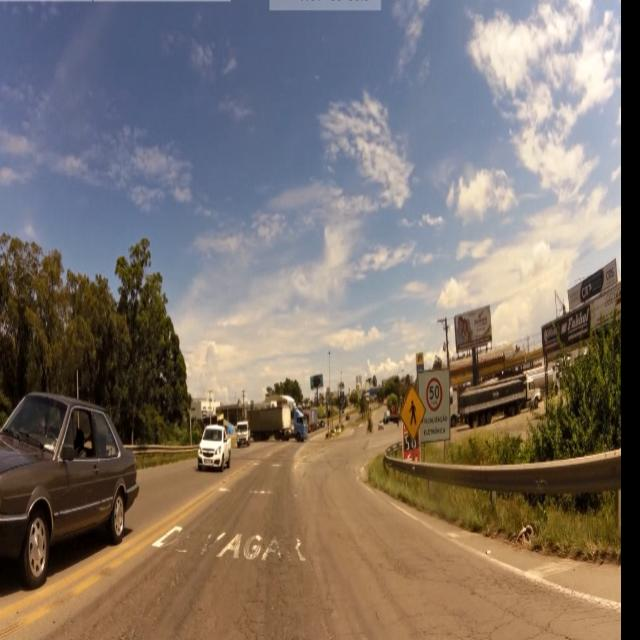A-32a: (402, 389, 427, 437)
